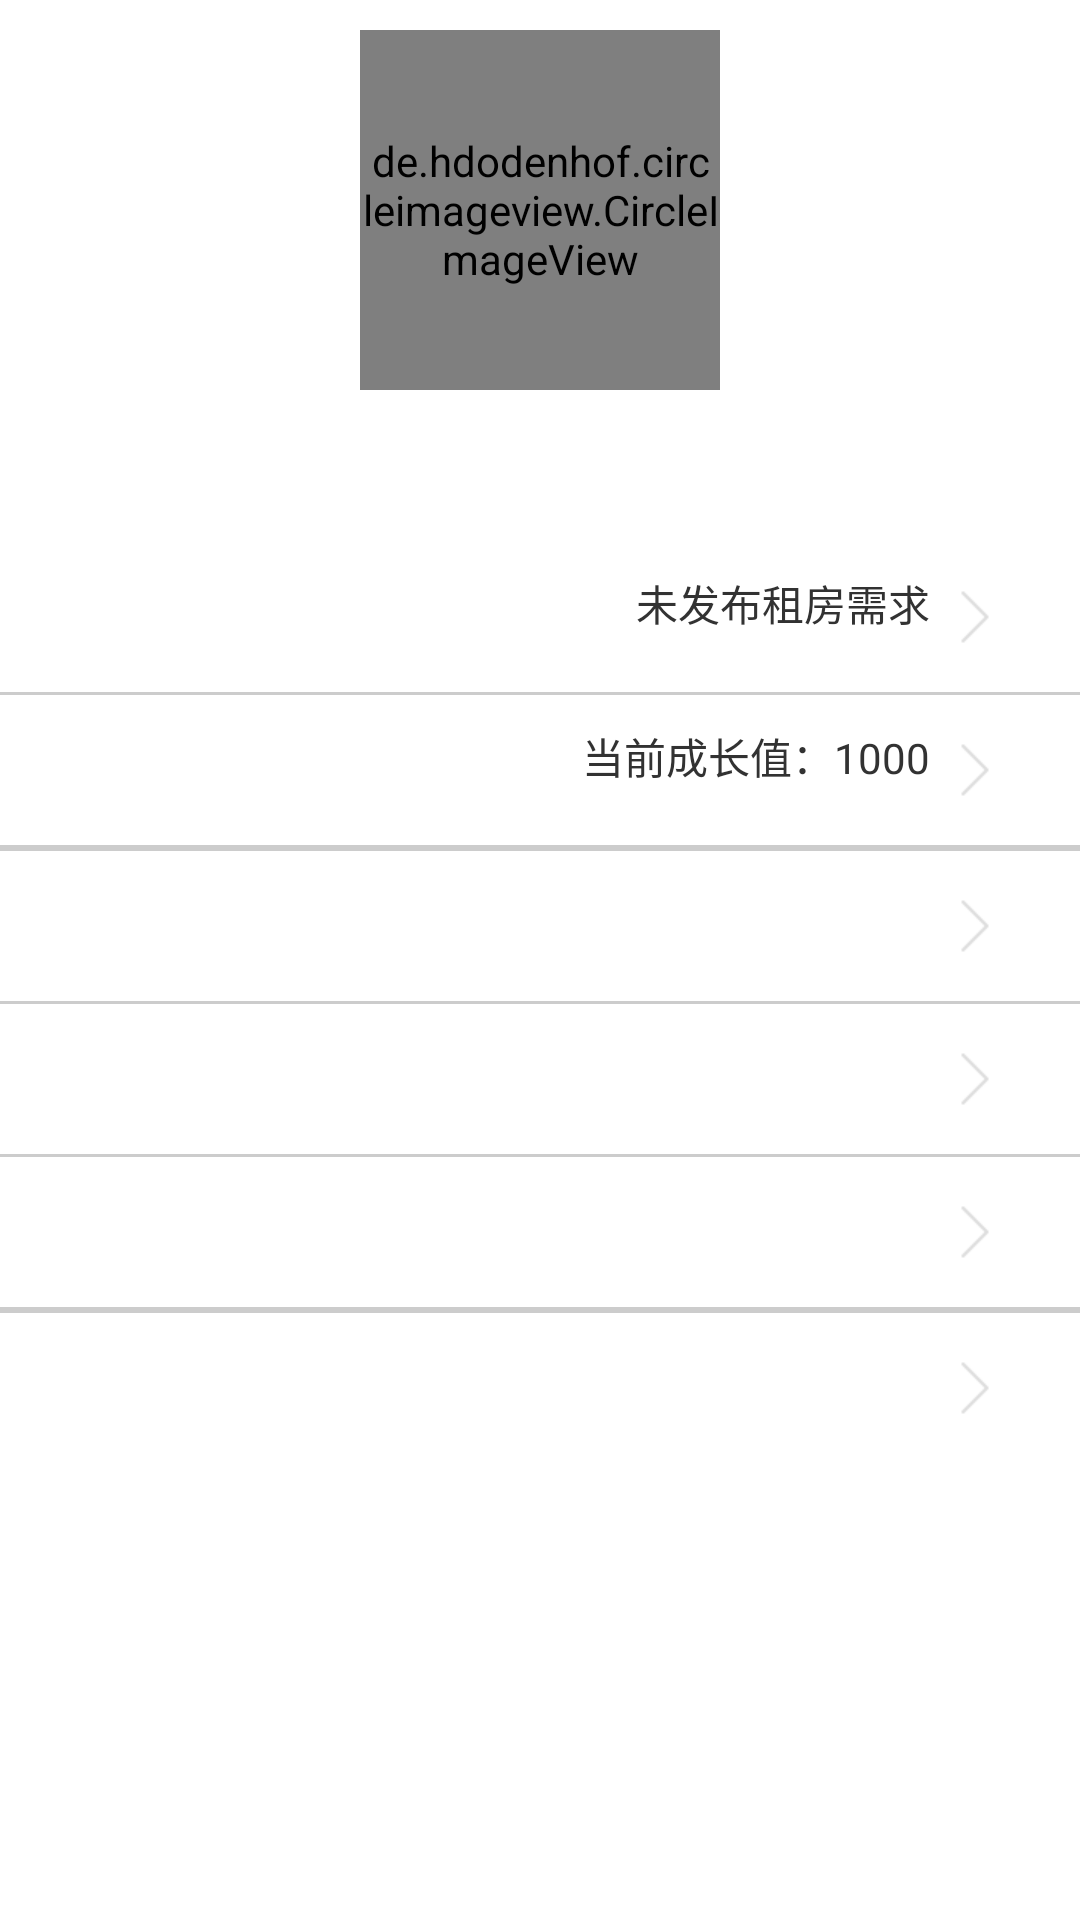

Screen size 1080 × 1920. Icon name, then its box in pixels as rect(x1, y1, x2, y2):
arrow right: rect(962, 592, 988, 642), rect(962, 745, 988, 795), rect(962, 901, 988, 951), rect(962, 1054, 988, 1104), rect(962, 1207, 988, 1257), rect(962, 1363, 988, 1413)
